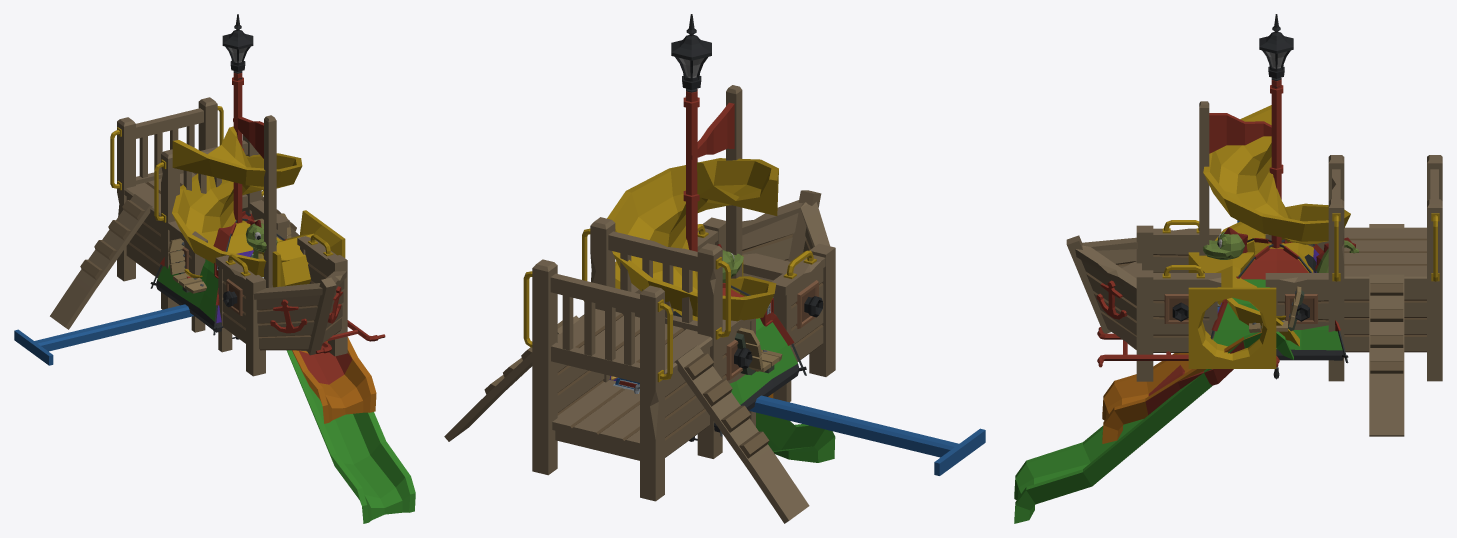
The model's file is park_props.glb.
3 views of the same model, side by side, from view 1: azimuth 30°, elevation 25°; view 2: azimuth 150°, elevation 25°; view 3: azimuth 270°, elevation 25° (orthographic). The views are drawn at different scales.
Parts seen in each view (by area): view 1: SM_Prop_Playground_Ship_01, SM_Prop_Playground_Slide_05, SM_Prop_Playground_Slide_01, SM_Prop_Tent_01, SM_Prop_Playground_Slide_03, SM_Prop_Playground_Track_Ride_01, SM_Prop_Playground_Tunnel_01, SM_Prop_Playground_Slide_04, SM_Env_Park_Seat_01, SM_Prop_Park_Lamp_01, SM_Prop_Coin_Ride_Dragon_Top, SM_Prop_Playground_Monkey_Bars_01; view 2: SM_Prop_Playground_Ship_01, SM_Prop_Playground_Slide_05, SM_Prop_Playground_Track_Ride_01, SM_Prop_Tent_01, SM_Prop_Playground_Slide_01, SM_Prop_Park_Lamp_01, SM_Env_Park_Seat_01; view 3: SM_Prop_Playground_Ship_01, SM_Prop_Playground_Slide_05, SM_Prop_Playground_Slide_01, SM_Prop_Playground_Tunnel_01, SM_Prop_Tent_01, SM_Prop_Playground_Slide_03, SM_Prop_Coin_Ride_Dragon_Top, SM_Prop_Playground_Slide_04, SM_Prop_Park_Lamp_01, SM_Prop_Playground_Monkey_Bars_01, SM_Env_Park_Seat_01.
Part boxes in pixels (left/top/right/bottom): SM_Prop_Playground_Ship_01: left=50, top=97, right=347, bottom=376; SM_Prop_Playground_Slide_05: left=172, top=73, right=302, bottom=276; SM_Prop_Playground_Slide_01: left=286, top=350, right=415, bottom=523; SM_Prop_Tent_01: left=150, top=211, right=286, bottom=335; SM_Prop_Playground_Slide_03: left=292, top=337, right=376, bottom=423; SM_Prop_Playground_Track_Ride_01: left=14, top=304, right=193, bottom=365; SM_Prop_Playground_Tunnel_01: left=252, top=210, right=345, bottom=287; SM_Prop_Playground_Slide_04: left=292, top=346, right=352, bottom=384; SM_Env_Park_Seat_01: left=168, top=213, right=291, bottom=293; SM_Prop_Park_Lamp_01: left=222, top=14, right=253, bottom=79; SM_Prop_Coin_Ride_Dragon_Top: left=246, top=220, right=277, bottom=258; SM_Prop_Playground_Monkey_Bars_01: left=316, top=320, right=385, bottom=353; SM_Prop_Playground_Ship_01: left=444, top=85, right=835, bottom=523; SM_Prop_Playground_Slide_05: left=607, top=89, right=778, bottom=321; SM_Prop_Playground_Track_Ride_01: left=749, top=395, right=985, bottom=475; SM_Prop_Tent_01: left=609, top=283, right=806, bottom=436; SM_Prop_Playground_Slide_01: left=756, top=412, right=835, bottom=462; SM_Prop_Park_Lamp_01: left=671, top=14, right=711, bottom=96; SM_Env_Park_Seat_01: left=735, top=327, right=782, bottom=375; SM_Prop_Playground_Ship_01: left=1066, top=101, right=1442, bottom=436; SM_Prop_Playground_Slide_05: left=1203, top=78, right=1350, bottom=346; SM_Prop_Playground_Slide_01: left=1014, top=331, right=1293, bottom=523; SM_Prop_Playground_Tunnel_01: left=1188, top=252, right=1276, bottom=368; SM_Prop_Tent_01: left=1210, top=238, right=1348, bottom=363; SM_Prop_Playground_Slide_03: left=1102, top=330, right=1261, bottom=443; SM_Prop_Coin_Ride_Dragon_Top: left=1203, top=227, right=1358, bottom=272; SM_Prop_Playground_Slide_04: left=1145, top=341, right=1244, bottom=414; SM_Prop_Park_Lamp_01: left=1259, top=14, right=1293, bottom=87; SM_Prop_Playground_Monkey_Bars_01: left=1097, top=327, right=1279, bottom=367; SM_Env_Park_Seat_01: left=1249, top=286, right=1304, bottom=332.
Bounding box in the file's own units: 4.96 × 5.98 × 4.87.
